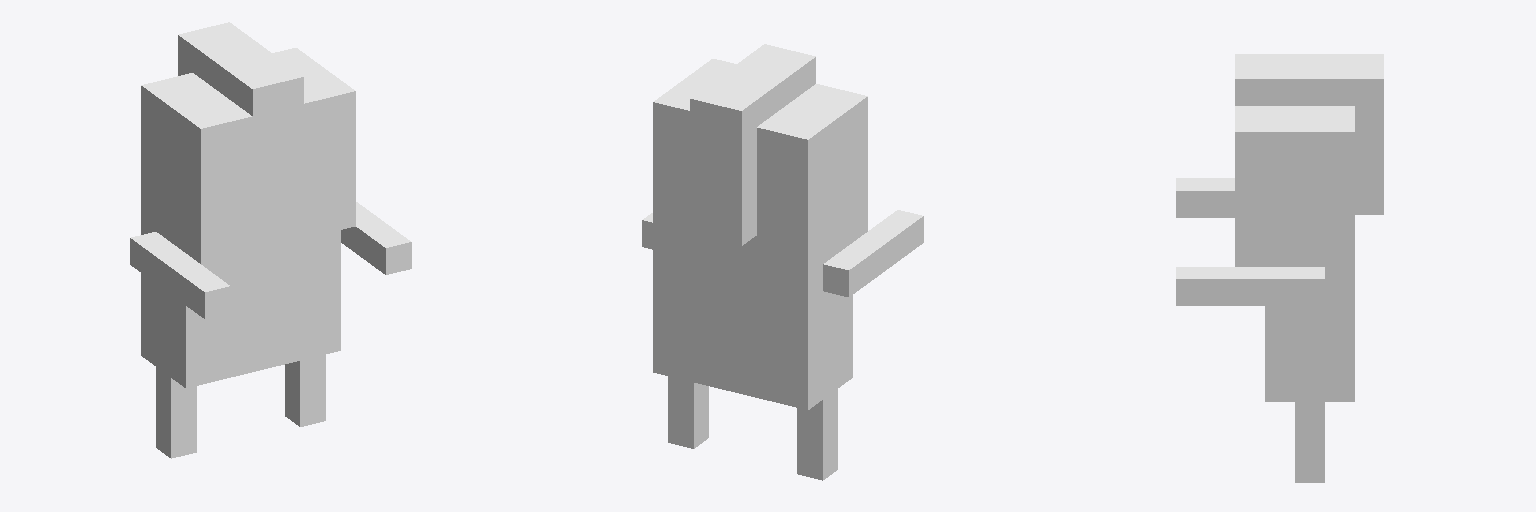
File: smithDown.obj
3 views of the same model, side by side, from view 1: azimuth 30°, elevation 25°; view 2: azimuth 150°, elevation 25°; view 3: azimuth 270°, elevation 25° (orthographic).
Parts seen in each view (by area): view 1: object 1; view 2: object 1; view 3: object 1.
Boxes of the visible parts, <box> form: object 1: <box>130,22,411,458</box>; object 1: <box>642,44,923,480</box>; object 1: <box>1176,54,1383,482</box>.
Size of the model in its own units: 0.8 by 1.4 by 0.7.